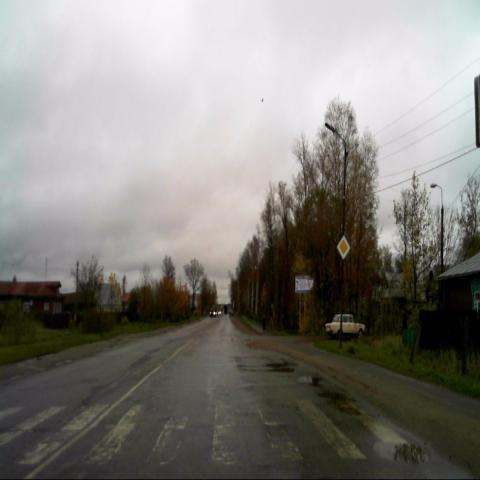2_1: (337, 236, 350, 260)
